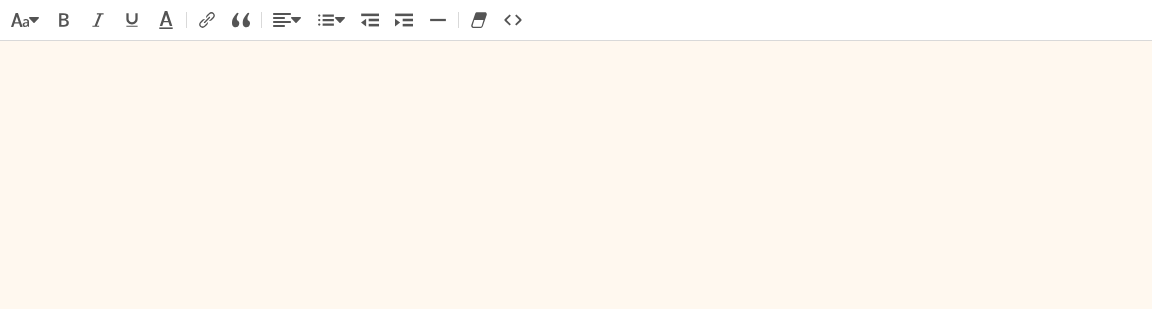
it: dropdown behaviour › opening a second dropdown closes the first
Click the button titled "Font size" at (25, 20), box [6,6,44,34]
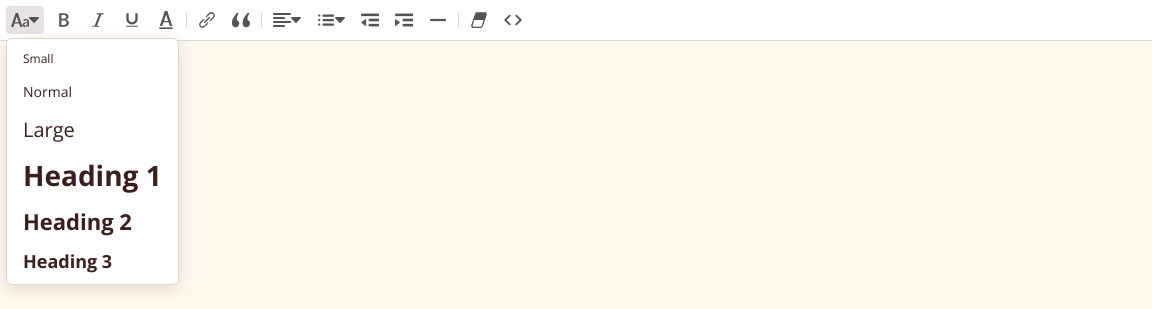
expect the number of elements with class "editor-toolbar__dropdown" is 1: met, box [6,38,179,285]
Click the button titled "Text alignment" at (287, 20), box [268,6,306,34]
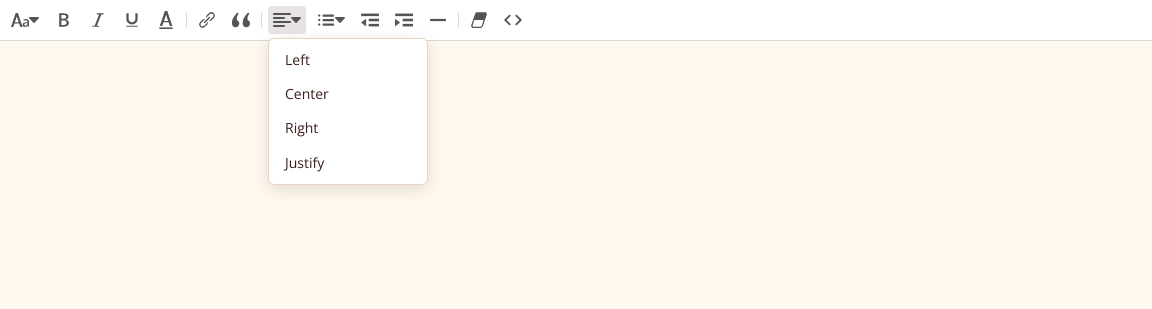
expect the number of buttons with class "editor-toolbar__dropdown-item" is 4: met, box [269,43,427,77]; [269,77,427,111]; [269,111,427,146]; [269,146,427,180]
